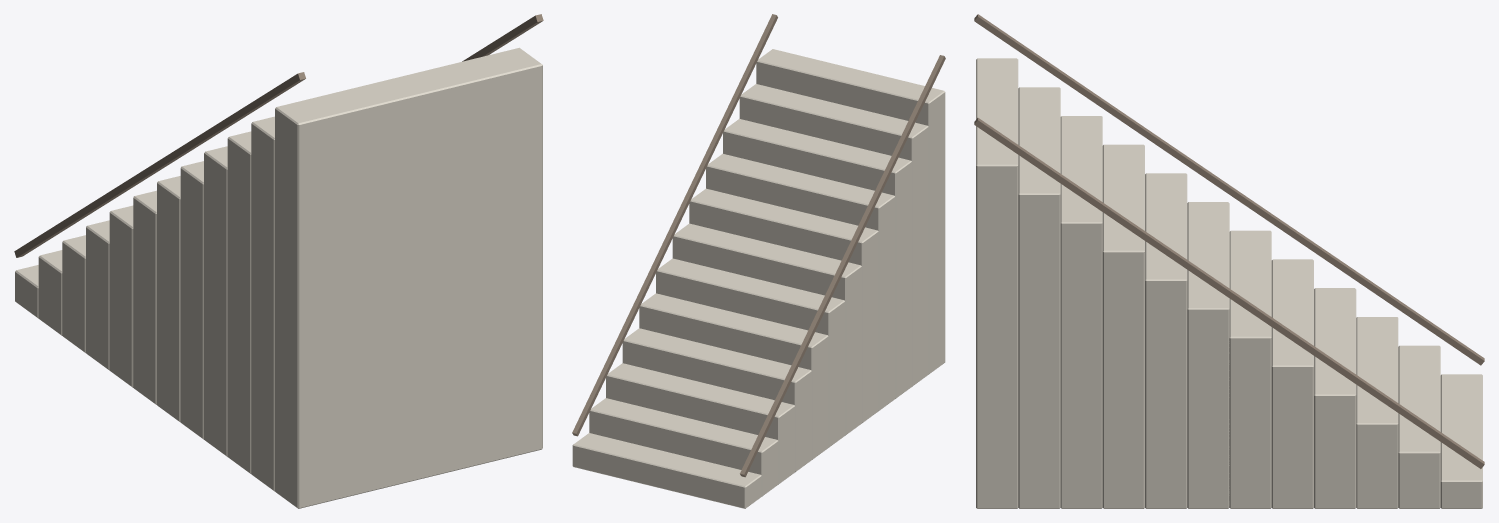
File: Cite_Escalier.fbx
The picture shows the model from 3 angles, left to right: view 1: azimuth 30°, elevation 25°; view 2: azimuth 150°, elevation 25°; view 3: azimuth 270°, elevation 25°; orthographic projection. The views are drawn at different scales.
Parts seen in each view (by area): view 1: Cite_Escalier_Pierre, Cite_Escalier_Fer; view 2: Cite_Escalier_Pierre, Cite_Escalier_Fer; view 3: Cite_Escalier_Pierre, Cite_Escalier_Fer.
Boxes of the visible parts, x1,y1,x2,y2 form: Cite_Escalier_Pierre: [15, 47, 542, 508]; Cite_Escalier_Fer: [14, 14, 543, 257]; Cite_Escalier_Pierre: [572, 49, 945, 508]; Cite_Escalier_Fer: [572, 14, 945, 477]; Cite_Escalier_Pierre: [976, 58, 1482, 508]; Cite_Escalier_Fer: [974, 14, 1484, 468].
Bounding box in the file's own units: 6 × 10.16 × 12.09.
